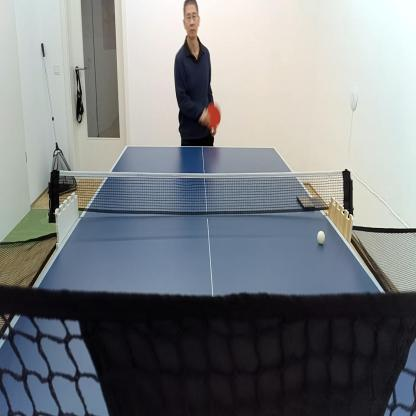Ball: (316, 227, 326, 248)
